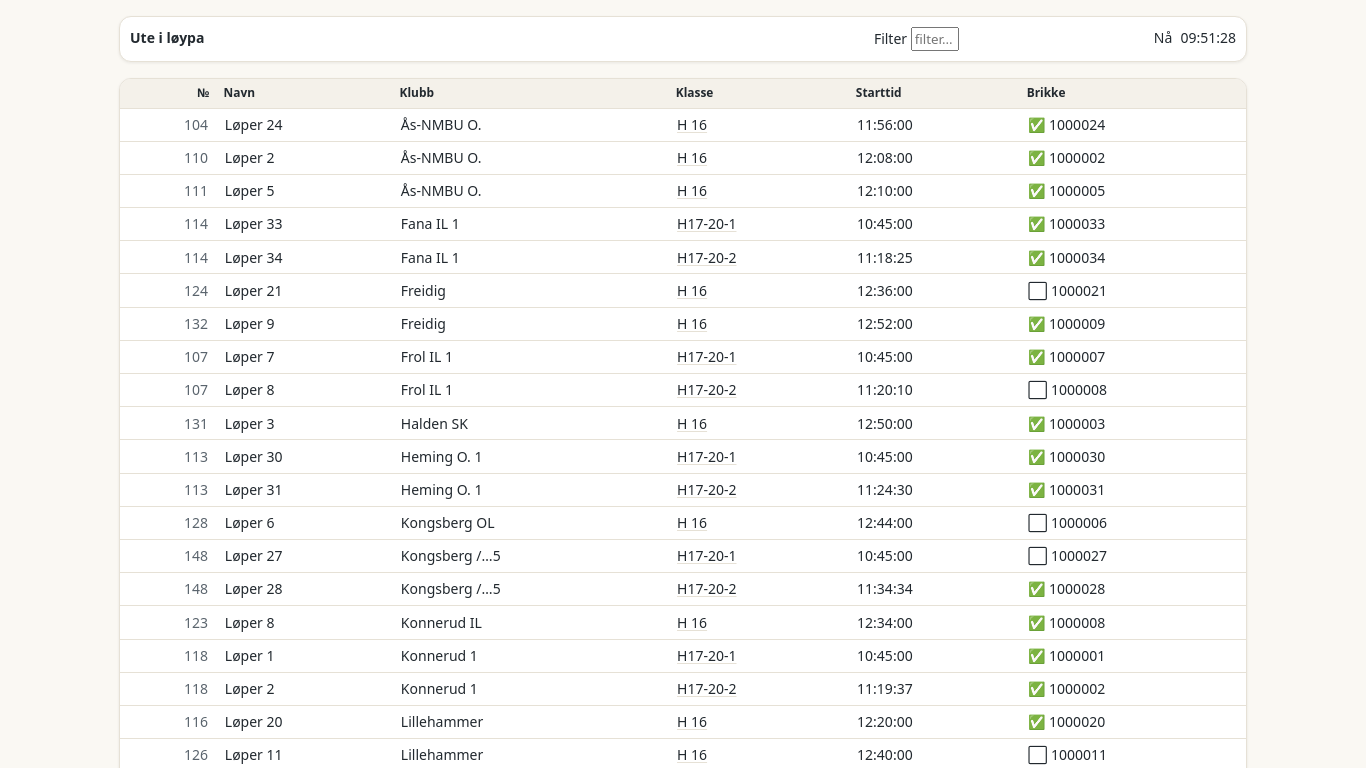
Scenario: App › shows runners left in forest with a filter
Step 1. Type "zzzz" into the field with placeholder "filter..." → (935, 39), box left=911, top=27, right=959, bottom=51
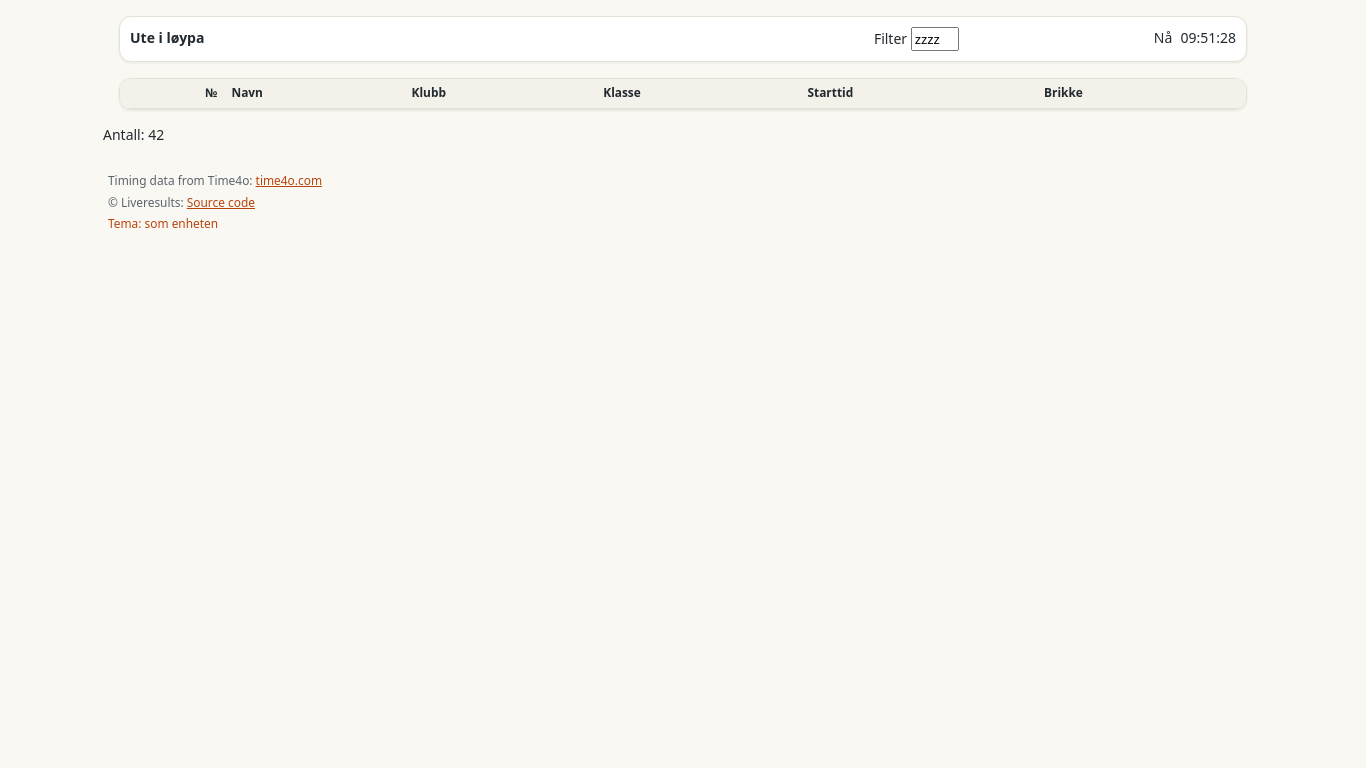
Expected: the number of rows is 1, left=120, top=79, right=1246, bottom=108
